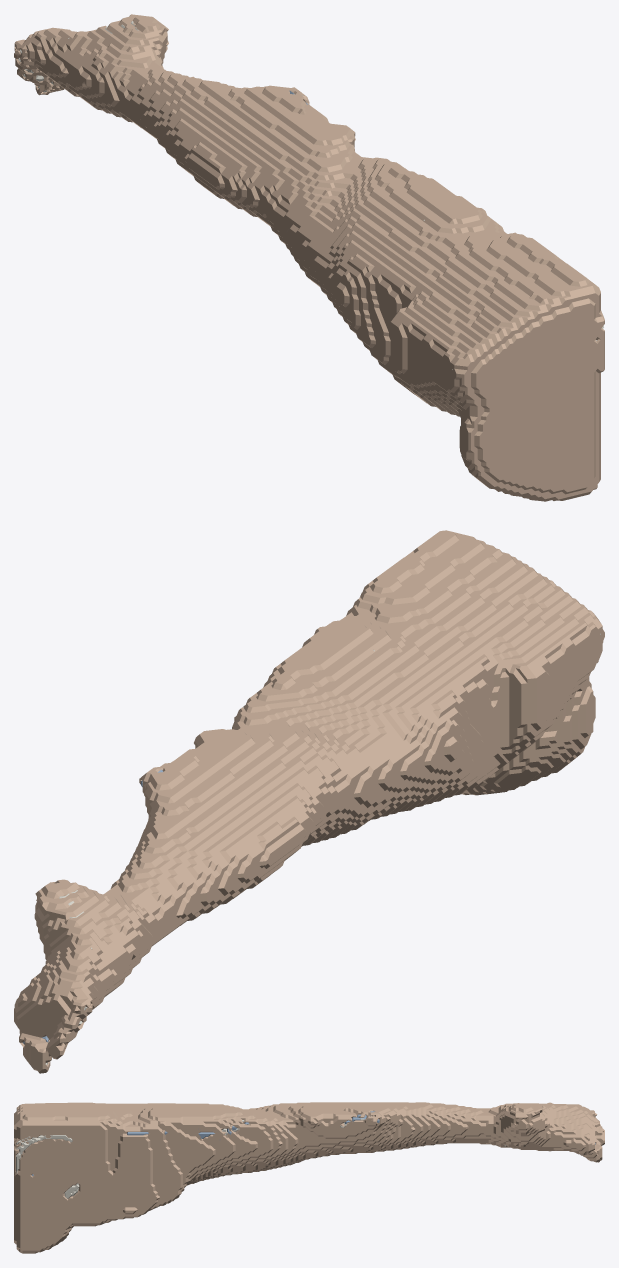
Rendered from lowerextremity.glb.
3 views of the same model, one above another, from view 1: azimuth 30°, elevation 25°; view 2: azimuth 150°, elevation 25°; view 3: azimuth 270°, elevation 25° (orthographic). The views are drawn at different scales.
Visible parts, largest first — view 1: world; view 2: world; view 3: world.
Boxes of the visible parts, x1,y1,x2,y2 form: world: [14, 14, 604, 501]; world: [14, 530, 604, 1073]; world: [14, 1102, 604, 1253].
Size of the model in its own units: 202 by 270 by 1062.
